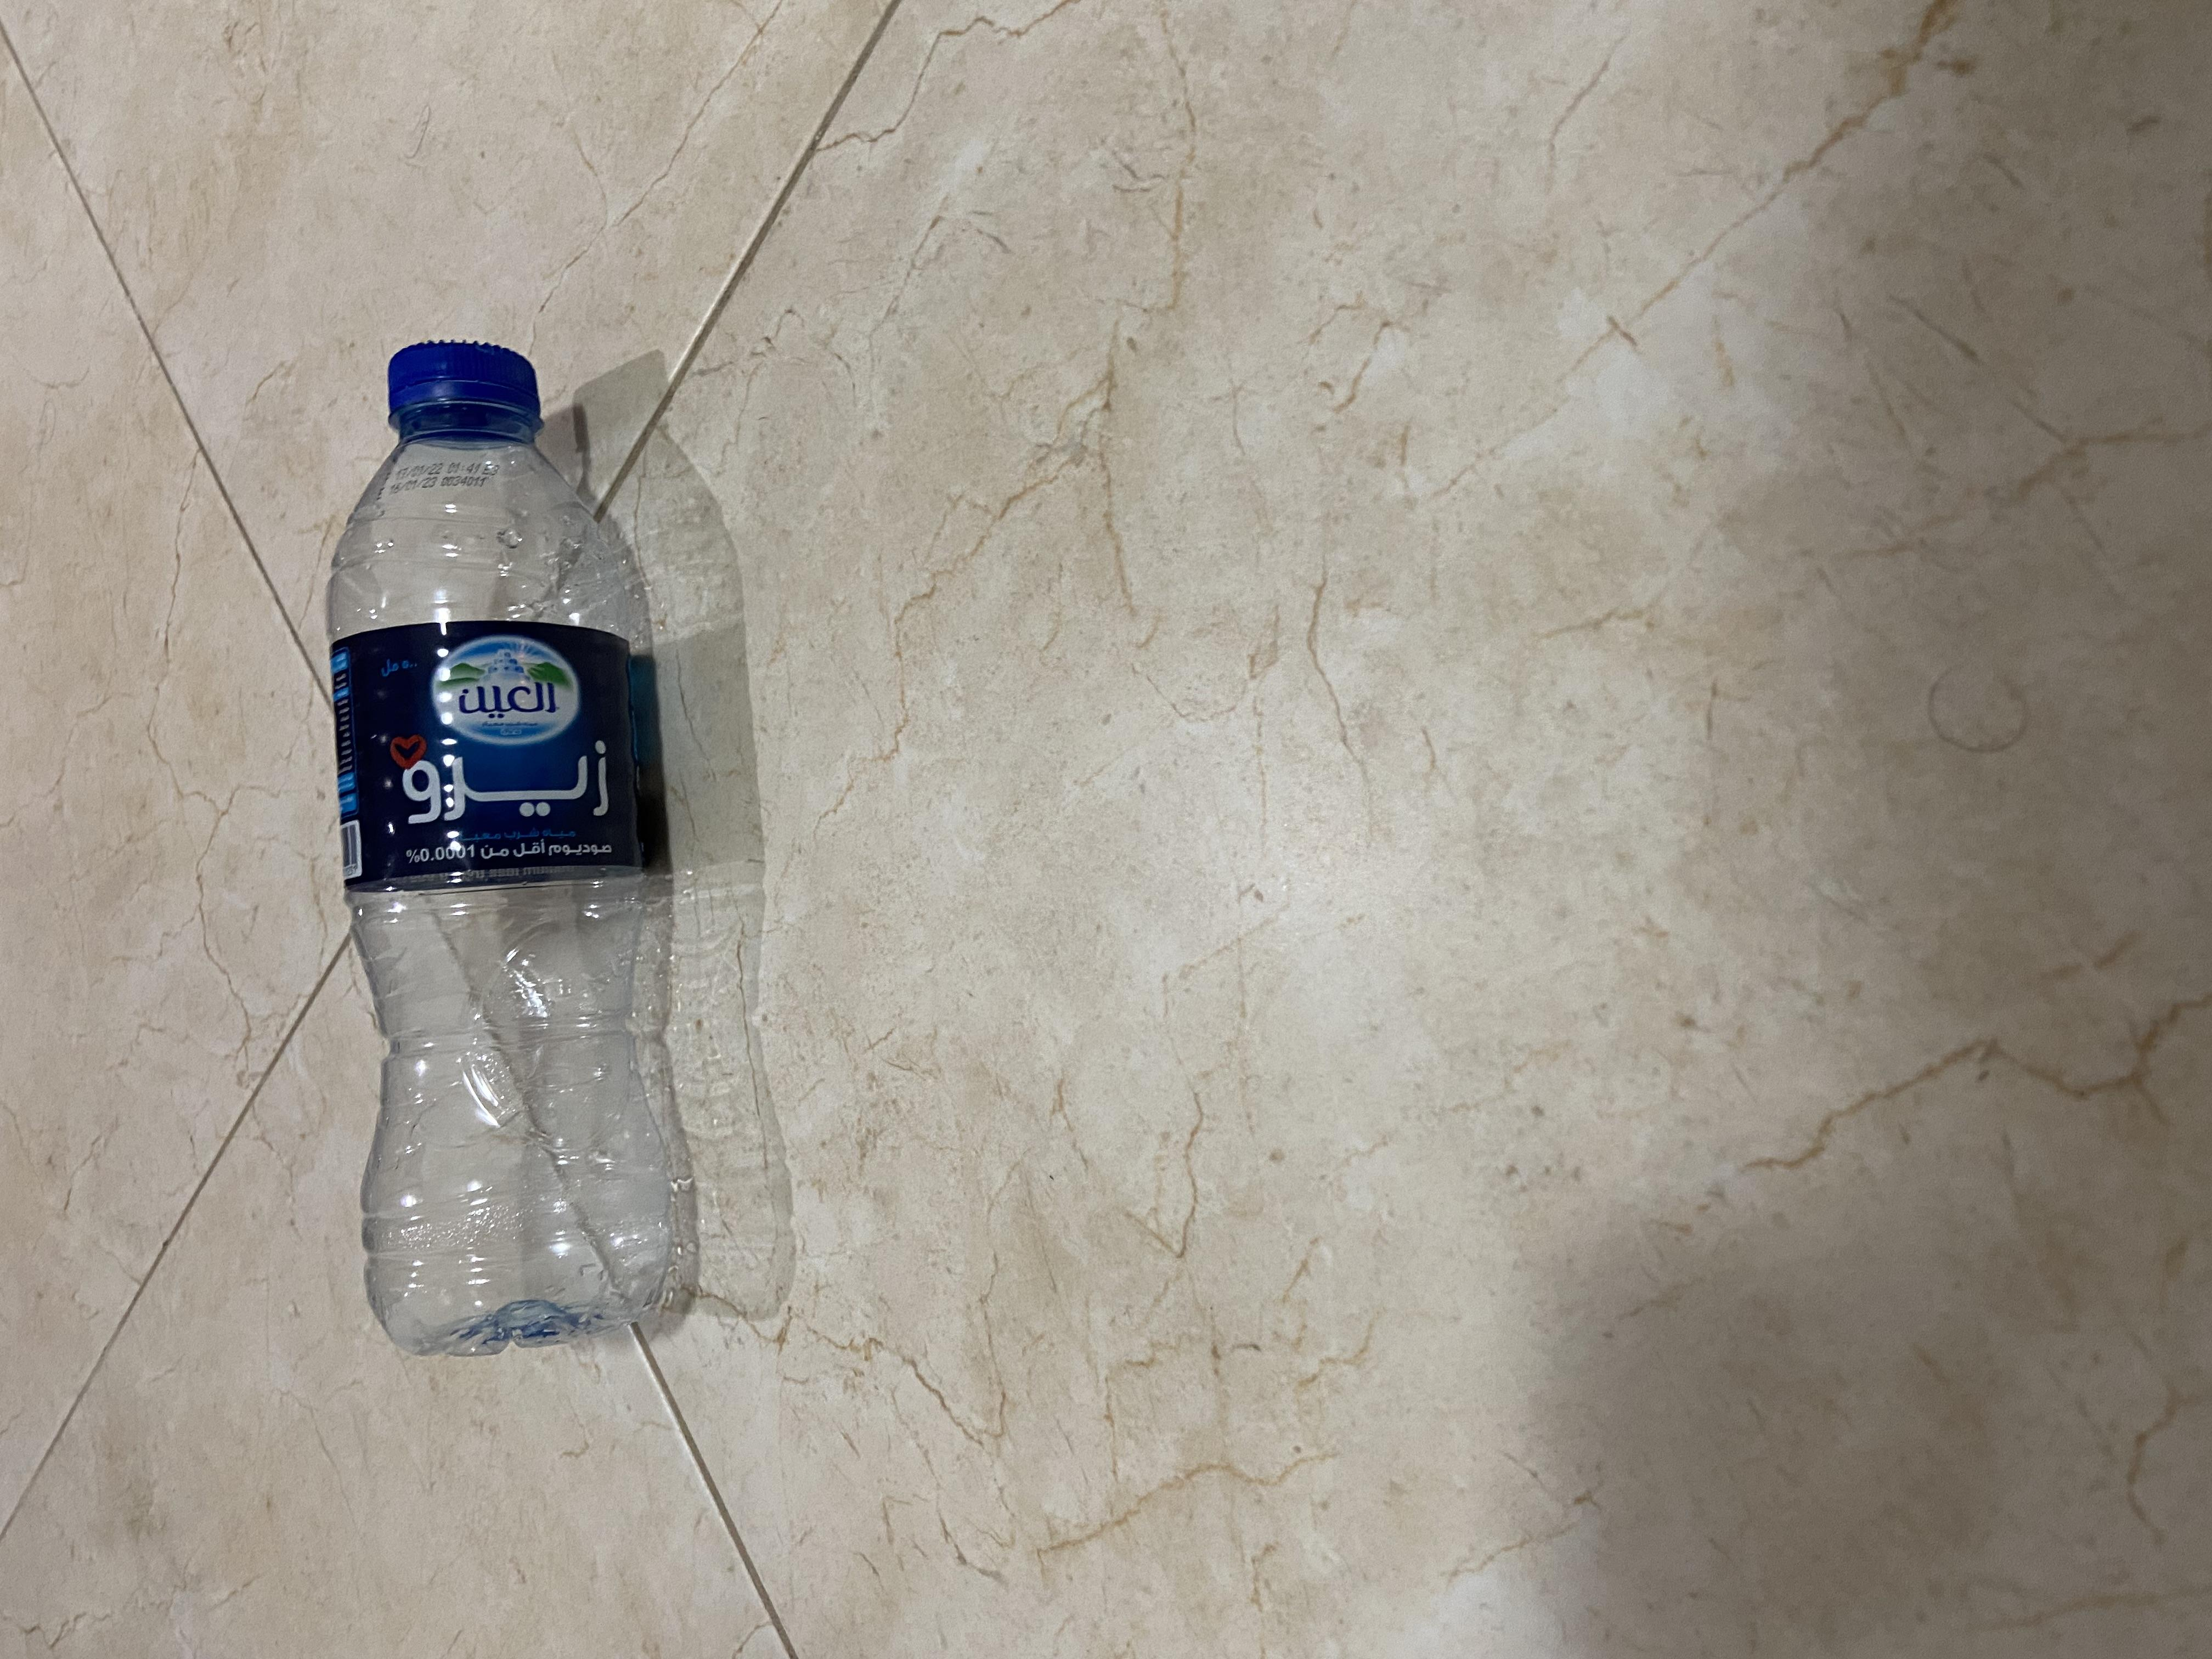bottle: (388, 235, 1766, 528)
